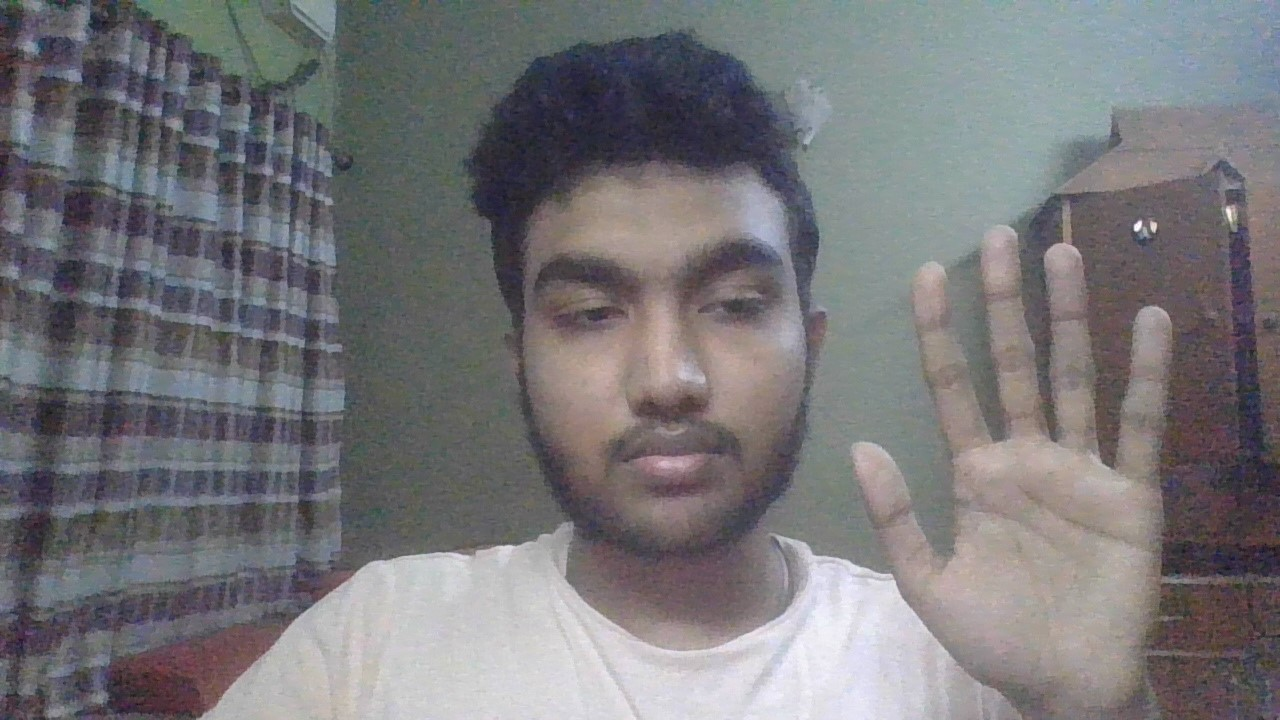Hello: (845, 221, 1188, 713)
